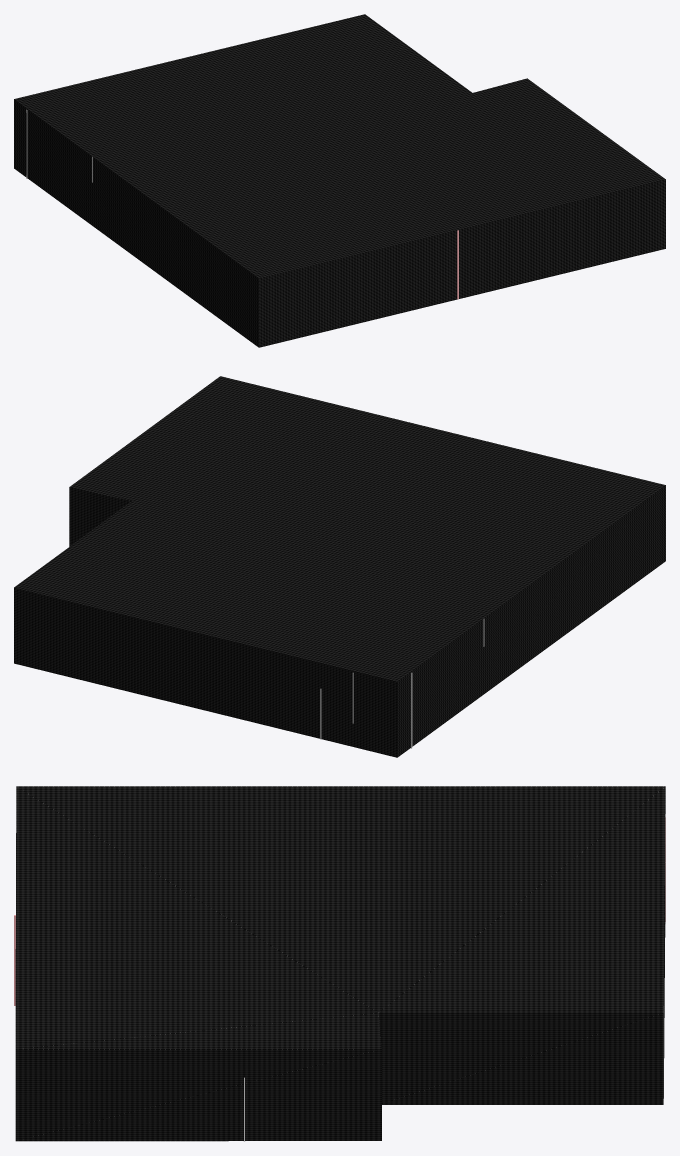
Rendered from stage002.fbx.
The picture shows the model from 3 angles, top to bottom: view 1: azimuth 30°, elevation 25°; view 2: azimuth 150°, elevation 25°; view 3: azimuth 270°, elevation 25°; orthographic projection. The views are drawn at different scales.
Parts seen in each view (by area): view 1: New_Game_Object__2_; view 2: New_Game_Object__2_; view 3: New_Game_Object__2_.
Part boxes in pixels (left/top/right/bottom): New_Game_Object__2_: left=14, top=14, right=665, bottom=347; New_Game_Object__2_: left=14, top=376, right=665, bottom=757; New_Game_Object__2_: left=15, top=786, right=665, bottom=1141.
Bounding box in the file's own units: 6257 × 1032 × 6547.
Materials: 3 (1 with a texture image).
